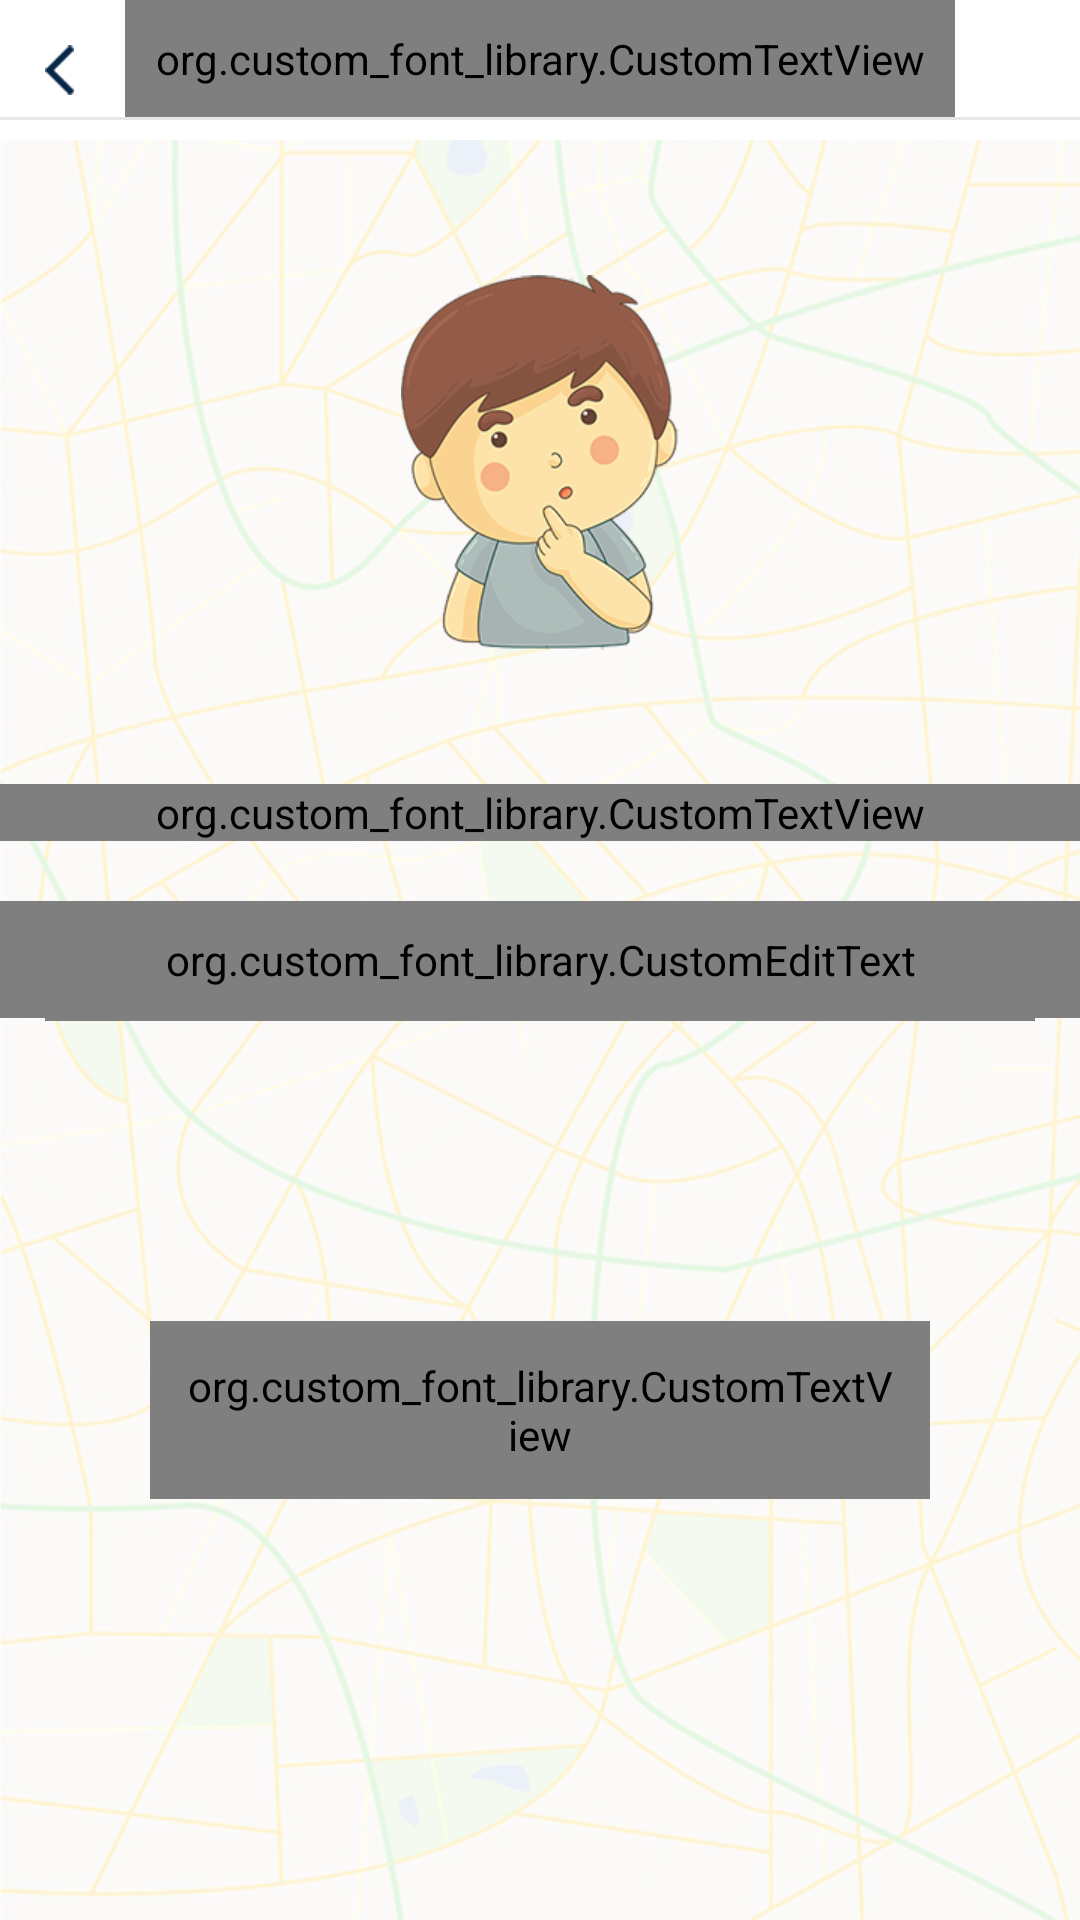

Named icons in this screenshot (1080 x 1920) and their bounding boxes, (x1, y1, x2, y2):
back arrow: (45, 45, 74, 95)
